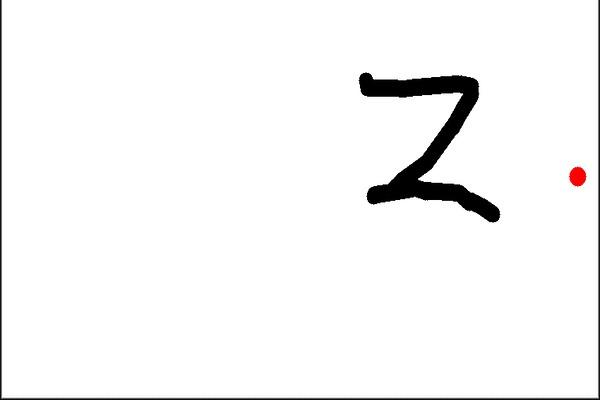Z: (353, 62, 506, 225)
